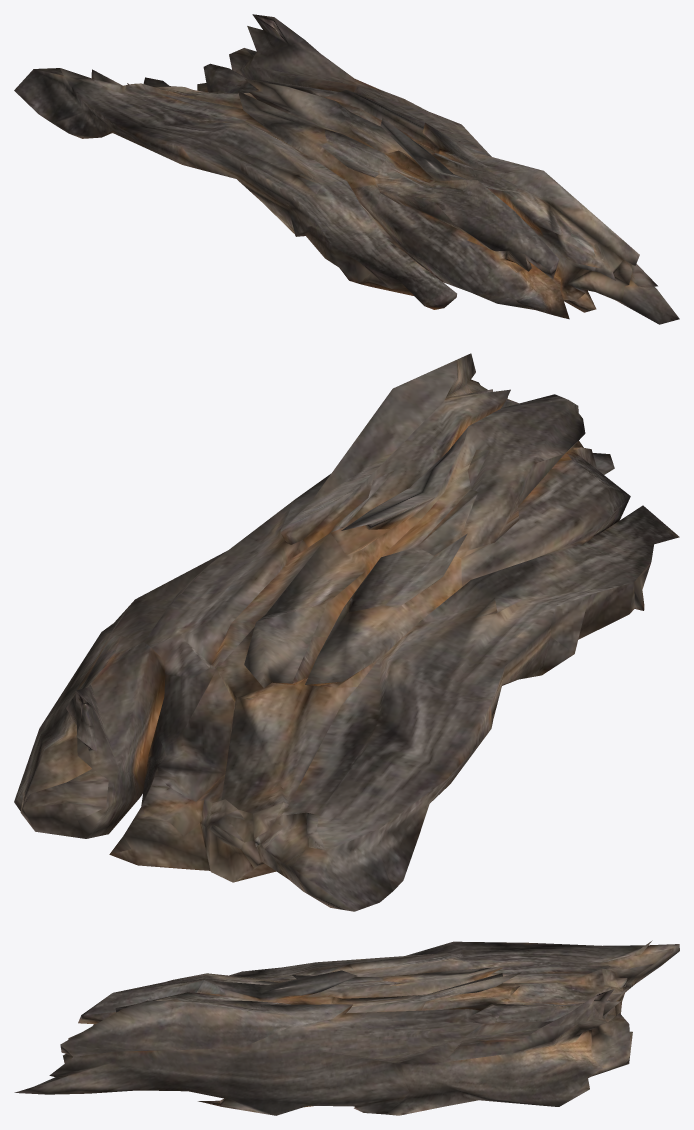
The model's file is bark_debris_01_a_LOD1.glb.
3 views of the same model, one above another, from view 1: azimuth 30°, elevation 25°; view 2: azimuth 150°, elevation 25°; view 3: azimuth 270°, elevation 25° (orthographic). The views are drawn at different scales.
Visible parts, largest first — view 1: bark_debris_01_a_LOD1__lodS; view 2: bark_debris_01_a_LOD1__lodS; view 3: bark_debris_01_a_LOD1__lodS.
Part boxes in pixels (x1,y1,x2,y2): bark_debris_01_a_LOD1__lodS: (14,14,679,324); bark_debris_01_a_LOD1__lodS: (14,353,679,911); bark_debris_01_a_LOD1__lodS: (14,940,679,1115).
Size of what is drawn, in the model's own units: 0.1862 by 0.0638 by 0.3979.
Materials: 1 (1 with a texture image).
